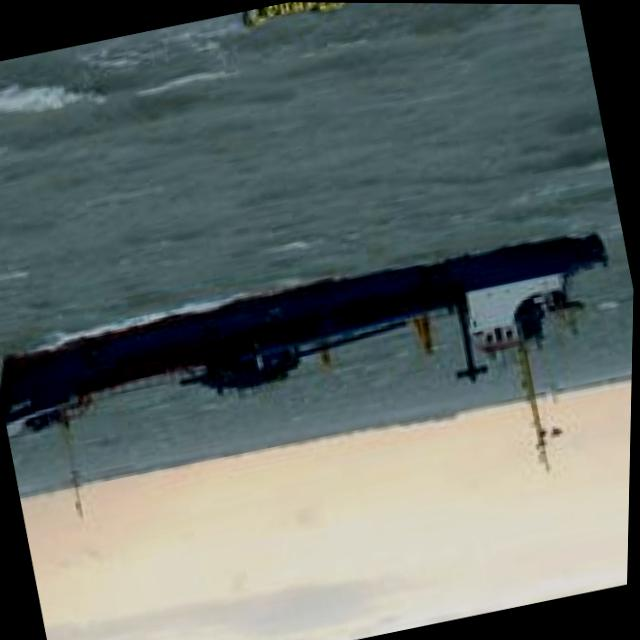ship2: (0, 231, 610, 522)
